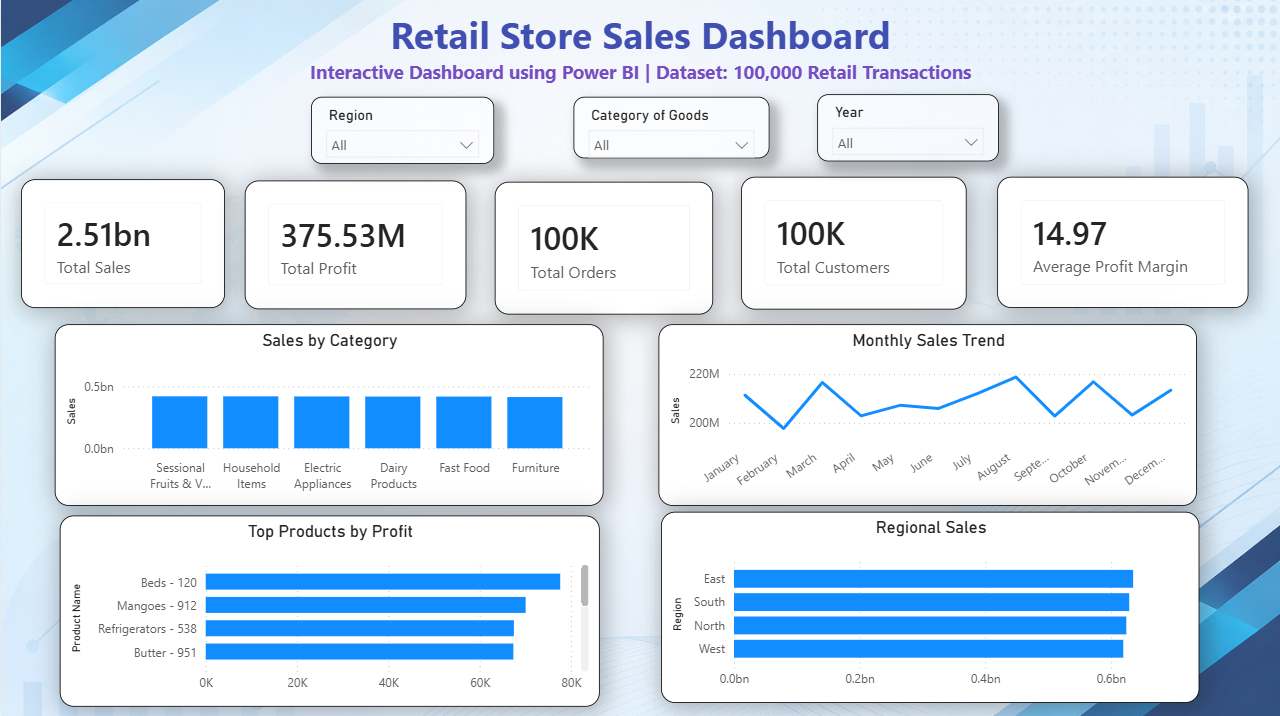

The dashboard page shown, as its layout file describes it:
{"tool":"powerbi","page":{"name":"Page 1","canvas":[1280,720],"ordinal":0},"visuals":[{"type":"cardVisual","fields":{"Data":["Sum(cleaned_store_sales.Sales)"]},"box":[20,181.4,204.3,128.6],"z":0},{"type":"cardVisual","fields":{"Data":["Count(cleaned_store_sales.Customer ID)"]},"box":[740,178.6,225.7,132.9],"z":1000},{"type":"cardVisual","fields":{"Data":["Sum(cleaned_store_sales.Profit)"]},"box":[244.3,182.9,221.4,128.6],"z":2000},{"type":"cardVisual","fields":{"Data":["Count(cleaned_store_sales.Order ID)"]},"box":[493.3,183.3,218.6,132.9],"z":3000},{"type":"cardVisual","fields":{"Data":["Avg(cleaned_store_sales.Profit Margin)"]},"box":[995.7,178.6,251.4,131.4],"z":4000},{"type":"lineChart","title":"Monthly Sales Trend","fields":{"Y":["Sum(cleaned_store_sales.Sales)"],"Category":["cleaned_store_sales.Sales Date.Variation.Date Hierarchy.Month"]},"box":[657.1,325.7,538.6,181.4],"z":5000},{"type":"clusteredBarChart","title":"Regional Sales","fields":{"Category":["cleaned_store_sales.Region"],"Y":["Sum(cleaned_store_sales.Sales)"]},"box":[660,514.3,538.6,191.4],"z":6000},{"type":"columnChart","title":"Sales by Category","fields":{"Category":["cleaned_store_sales.Category of Goods"],"Y":["Sum(cleaned_store_sales.Sales)"]},"box":[54.3,325.7,548.6,181.4],"z":7000},{"type":"clusteredBarChart","title":"Top Products by Profit","fields":{"Category":["cleaned_store_sales.Product Name"],"Y":["Sum(cleaned_store_sales.Profit)"]},"box":[58.6,517.1,540,191.4],"z":8000},{"type":"textbox","box":[177.1,5.7,924.3,101.4],"z":9000},{"type":"slicer","fields":{"Values":["cleaned_store_sales.Region"]},"box":[310,98.6,182.9,67.1],"z":10000},{"type":"slicer","fields":{"Values":["cleaned_store_sales.Category of Goods"]},"box":[572.9,98.6,195.7,61.4],"z":11000},{"type":"slicer","fields":{"Values":["cleaned_store_sales.Sales Date.Variation.Date Hierarchy.Year"]},"box":[815.7,95.7,181.4,67.1],"z":12000}]}

Visuals, with their boxes in screenshot pixels (x1, y1, x2, y2), scaled from the page's 1280x720 canvas onto the 1280x716 screenshot:
cardVisual - Sum(cleaned_store_sales.Sales): [20,180,224,308]
cardVisual - Count(cleaned_store_sales.Customer ID): [740,178,966,310]
cardVisual - Sum(cleaned_store_sales.Profit): [244,182,466,310]
cardVisual - Count(cleaned_store_sales.Order ID): [493,182,712,314]
cardVisual - Avg(cleaned_store_sales.Profit Margin): [996,178,1247,308]
"Monthly Sales Trend" lineChart: [657,324,1196,504]
"Regional Sales" clusteredBarChart: [660,511,1199,702]
"Sales by Category" columnChart: [54,324,603,504]
"Top Products by Profit" clusteredBarChart: [59,514,599,705]
textbox: [177,6,1101,107]
slicer - cleaned_store_sales.Region: [310,98,493,165]
slicer - cleaned_store_sales.Category of Goods: [573,98,769,159]
slicer - cleaned_store_sales.Sales Date.Variation.Date Hierarchy.Year: [816,95,997,162]
